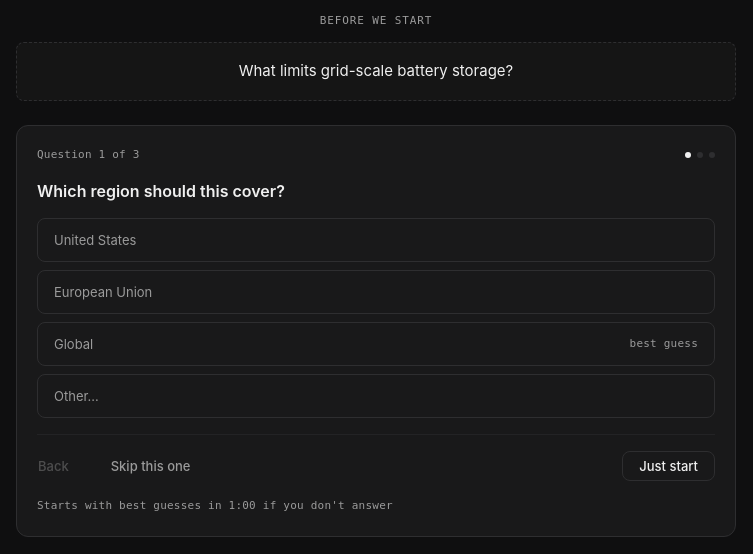
Test case: ClarifyStage — the card › any other failure says the answers were not sent, and never posts again
The width and height of the screenshot is (753, 554).
Click the button "Just start": {"x": 669, "y": 466} [622,451,715,481]
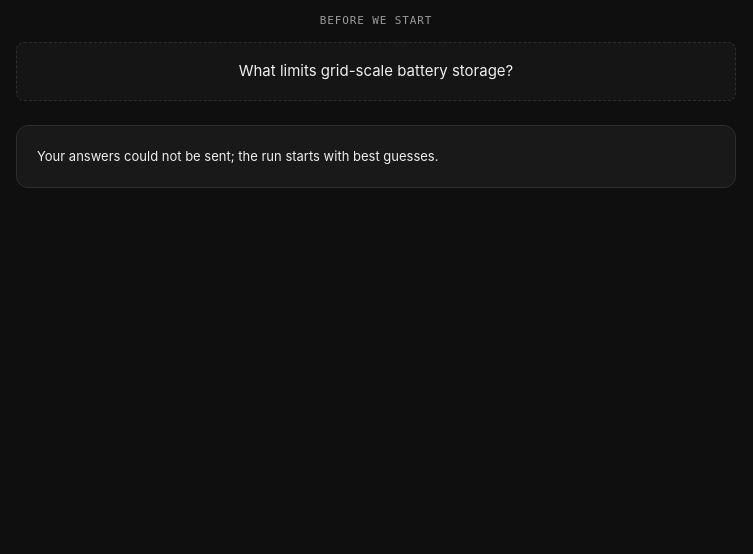
Now the element with id "clarifyCard" reads "Your answers could not be sent; the run starts with best guesses.", box [37,148,438,164]
